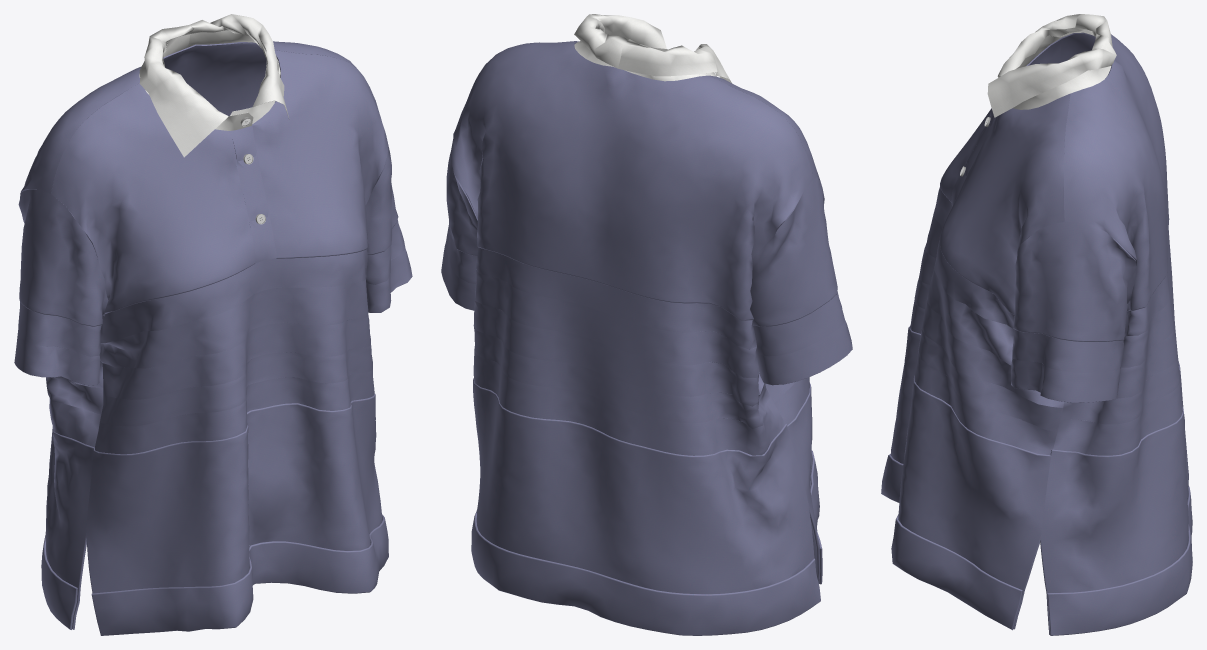
3 views of the same model, side by side, from view 1: azimuth 30°, elevation 25°; view 2: azimuth 150°, elevation 25°; view 3: azimuth 270°, elevation 25° (orthographic). The views are drawn at different scales.
Parts seen in each view (by area): view 1: Pattern2D_3346071, Pattern2D_3477746, Pattern2D_3483599, Pattern2D_614027, Pattern2D_420041, Pattern2D_3459562, Pattern2D_3424674, Pattern2D_420052, Pattern2D_420022, Pattern2D_420074, Pattern2D_420063, Pattern2D_3462828 (+13 smaller); view 2: Pattern2D_3459562, Pattern2D_3462828, Pattern2D_614552, Pattern2D_430427, Pattern2D_501064, Pattern2D_430405, Pattern2D_3424674, Pattern2D_501049, Pattern2D_430416, Pattern2D_338536, Pattern2D_533010, Pattern2D_533716 (+8 smaller); view 3: Pattern2D_3346071, Pattern2D_3462828, Pattern2D_3459562, Pattern2D_3483599, Pattern2D_3420210, Pattern2D_614027, Pattern2D_614552, Pattern2D_420074, Pattern2D_430427, Pattern2D_420063, Pattern2D_533716, Pattern2D_420052 (+12 smaller).
Boxes of the visible parts, x1=… form: Pattern2D_3346071: x1=86, y1=394, x2=382, y2=593; Pattern2D_3477746: x1=51, y1=82, x2=255, y2=316; Pattern2D_3483599: x1=252, y1=50, x2=388, y2=258; Pattern2D_614027: x1=91, y1=514, x2=388, y2=635; Pattern2D_420041: x1=99, y1=276, x2=368, y2=368; Pattern2D_3459562: x1=21, y1=41, x2=356, y2=193; Pattern2D_3424674: x1=18, y1=189, x2=108, y2=326; Pattern2D_420052: x1=102, y1=316, x2=370, y2=399; Pattern2D_420022: x1=100, y1=249, x2=367, y2=342; Pattern2D_420074: x1=95, y1=368, x2=374, y2=454; Pattern2D_420063: x1=100, y1=344, x2=372, y2=426; Pattern2D_3462828: x1=45, y1=427, x2=94, y2=589; Pattern2D_3459562: x1=451, y1=41, x2=813, y2=320; Pattern2D_3462828: x1=473, y1=378, x2=814, y2=594; Pattern2D_614552: x1=471, y1=509, x2=820, y2=635; Pattern2D_430427: x1=473, y1=352, x2=785, y2=455; Pattern2D_501064: x1=475, y1=270, x2=758, y2=377; Pattern2D_430405: x1=473, y1=301, x2=764, y2=406; Pattern2D_3424674: x1=750, y1=177, x2=837, y2=326; Pattern2D_501049: x1=476, y1=247, x2=756, y2=349; Pattern2D_430416: x1=474, y1=327, x2=770, y2=428; Pattern2D_338536: x1=756, y1=321, x2=852, y2=385; Pattern2D_533010: x1=618, y1=39, x2=731, y2=83; Pattern2D_533716: x1=574, y1=14, x2=666, y2=68; Pattern2D_3346071: x1=890, y1=326, x2=1051, y2=590; Pattern2D_3462828: x1=1040, y1=362, x2=1188, y2=593; Pattern2D_3459562: x1=1060, y1=32, x2=1169, y2=311; Pattern2D_3483599: x1=939, y1=93, x2=1070, y2=314; Pattern2D_3420210: x1=1013, y1=221, x2=1136, y2=341; Pattern2D_614027: x1=881, y1=454, x2=1022, y2=630; Pattern2D_614552: x1=1047, y1=486, x2=1192, y2=635; Pattern2D_420074: x1=909, y1=301, x2=1056, y2=455; Pattern2D_430427: x1=1053, y1=337, x2=1182, y2=455; Pattern2D_420063: x1=914, y1=279, x2=1062, y2=432; Pattern2D_533716: x1=987, y1=35, x2=1116, y2=117; Pattern2D_420052: x1=918, y1=249, x2=1063, y2=407.
Size of the model in its own units: 51.76 by 69.28 by 36.58.
